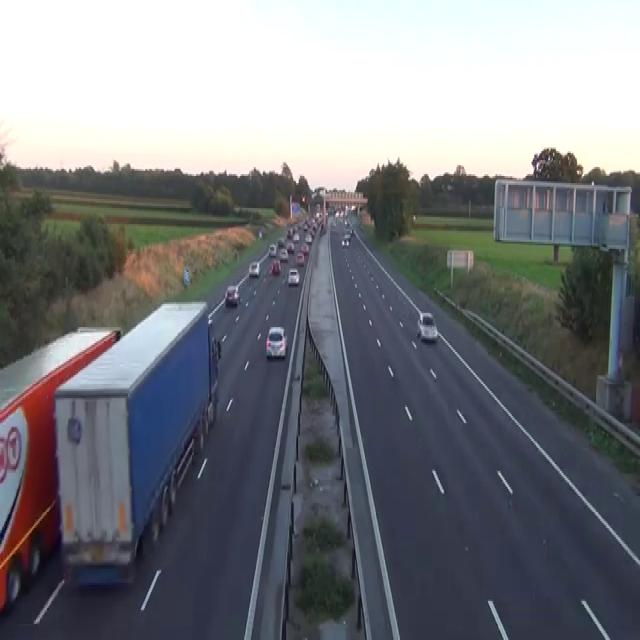Car: (265, 325, 287, 359), (417, 311, 437, 341), (224, 284, 240, 306), (211, 336, 221, 361), (287, 267, 299, 286), (248, 260, 260, 278), (270, 258, 281, 276), (279, 247, 288, 261), (296, 251, 304, 265), (341, 235, 350, 247), (268, 244, 276, 256), (300, 244, 309, 254), (277, 237, 285, 247), (286, 242, 294, 252), (320, 222, 326, 235), (305, 233, 312, 243), (344, 231, 351, 240), (233, 204, 240, 213), (207, 315, 212, 327), (286, 228, 292, 238), (330, 220, 336, 230), (446, 183, 454, 190), (293, 233, 299, 242), (303, 220, 308, 230), (316, 212, 322, 220), (258, 228, 262, 238), (300, 194, 305, 202), (344, 218, 349, 226), (349, 228, 354, 236), (351, 204, 355, 210)
Truck: (53, 299, 221, 590), (0, 326, 121, 614)
